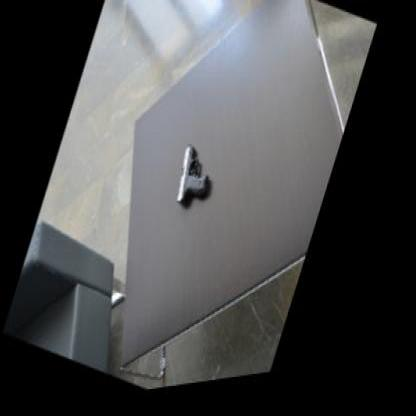pistol: (173, 143, 222, 220)
